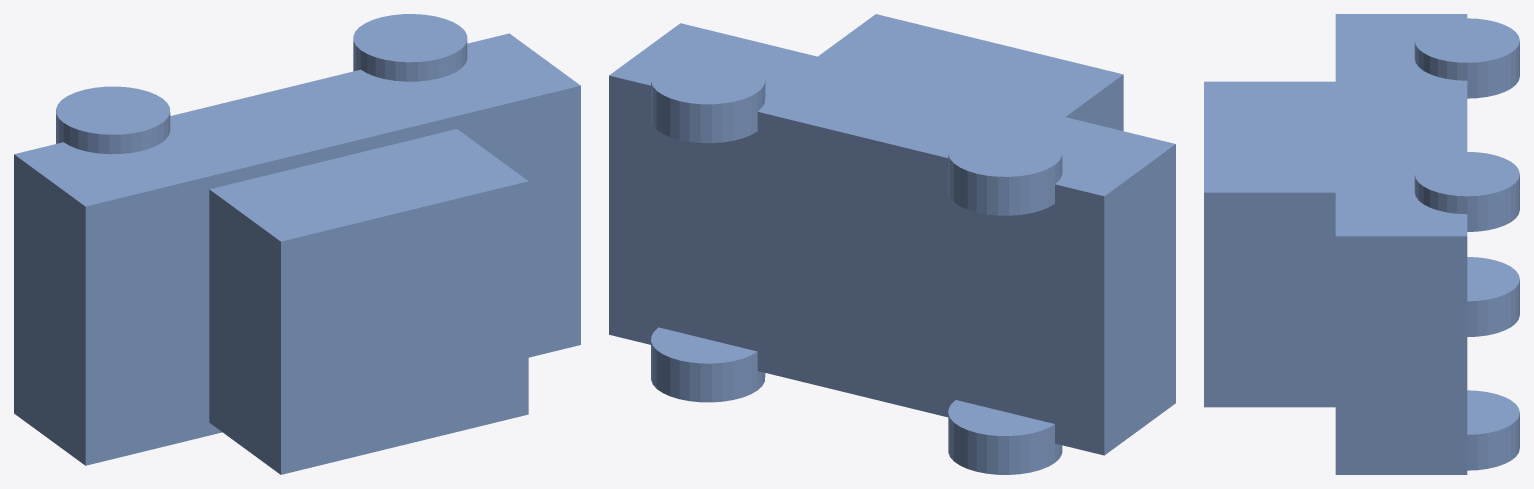
The picture shows the model from 3 angles, left to right: view 1: azimuth 30°, elevation 25°; view 2: azimuth 150°, elevation 25°; view 3: azimuth 270°, elevation 25°; orthographic projection. The views are drawn at different scales.
Visible parts, largest first — view 1: world; view 2: world; view 3: world.
Boxes of the visible parts, <box> form: world: <box>14,14,580,474</box>; world: <box>609,14,1175,474</box>; world: <box>1204,14,1519,474</box>.
Bounding box in the file's own units: 4 × 2.3 × 2.4.
